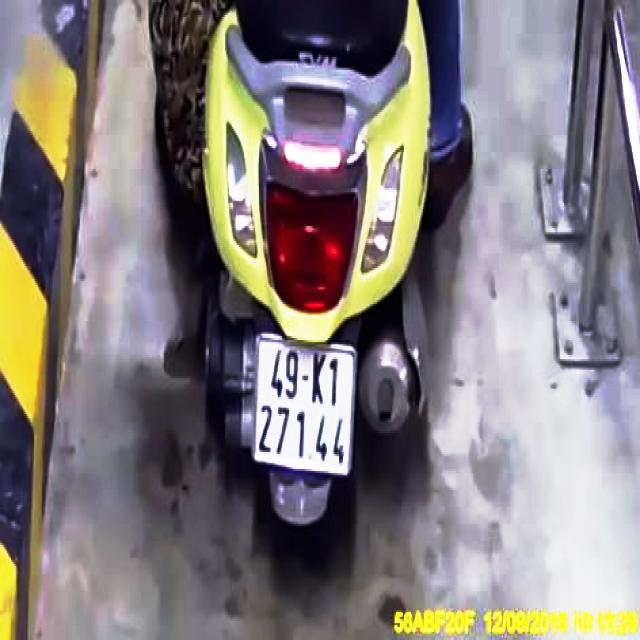license_plate: (255, 336, 355, 475)
